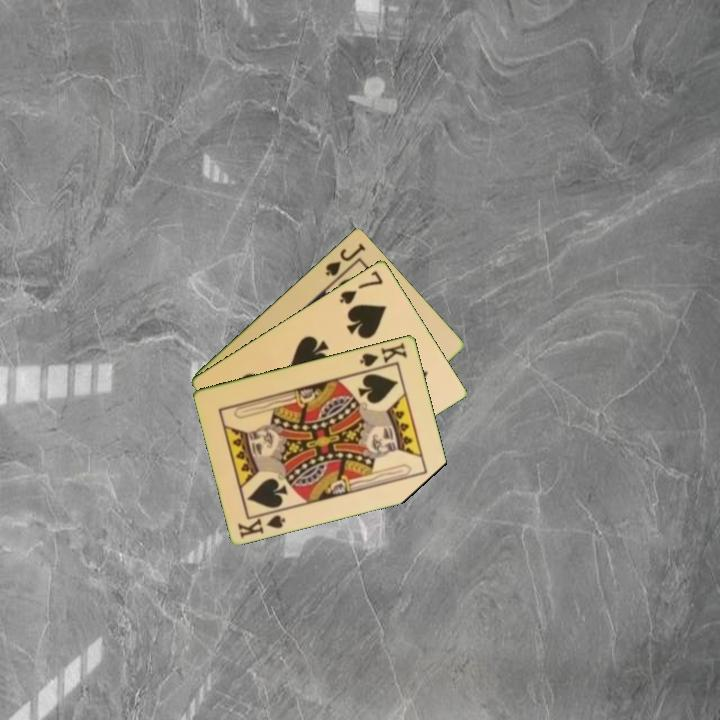7s: (336, 267, 386, 307)
Js: (321, 239, 369, 279)
Ks: (356, 338, 410, 374), (234, 506, 289, 541)
